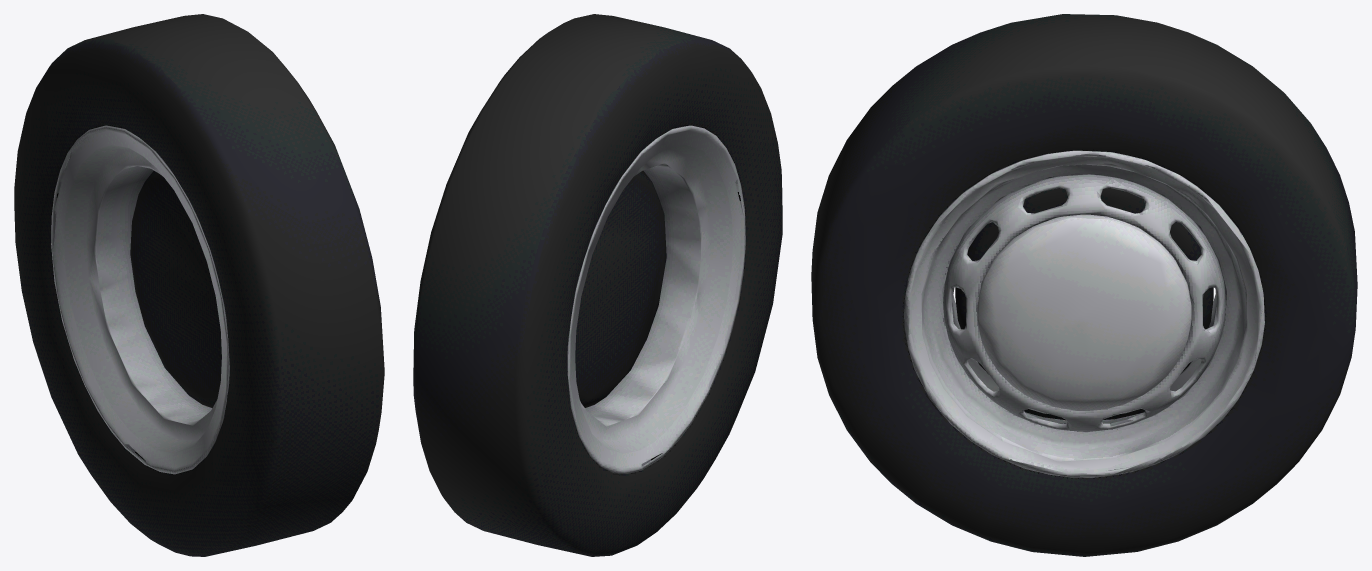
Rendered from wheel_front_right.glb.
The picture shows the model from 3 angles, left to right: view 1: azimuth 30°, elevation 25°; view 2: azimuth 150°, elevation 25°; view 3: azimuth 270°, elevation 25°; orthographic projection. The views are drawn at different scales.
Visible parts, largest first — view 1: Porsche356_Wheel_front_right; view 2: Porsche356_Wheel_front_right; view 3: Porsche356_Wheel_front_right.
Boxes of the visible parts, x1,y1,x2,y2 form: Porsche356_Wheel_front_right: (14, 14, 384, 556); Porsche356_Wheel_front_right: (413, 14, 782, 556); Porsche356_Wheel_front_right: (811, 14, 1357, 556).
Bounding box in the file's own units: 0.1852 × 0.6251 × 0.6252.
Materials: 1 (1 with a texture image).
